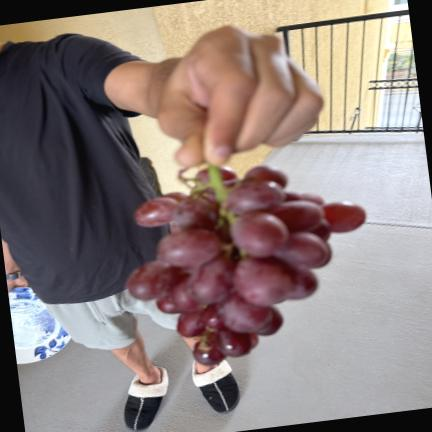grape_cluster: (126, 165, 365, 367)
